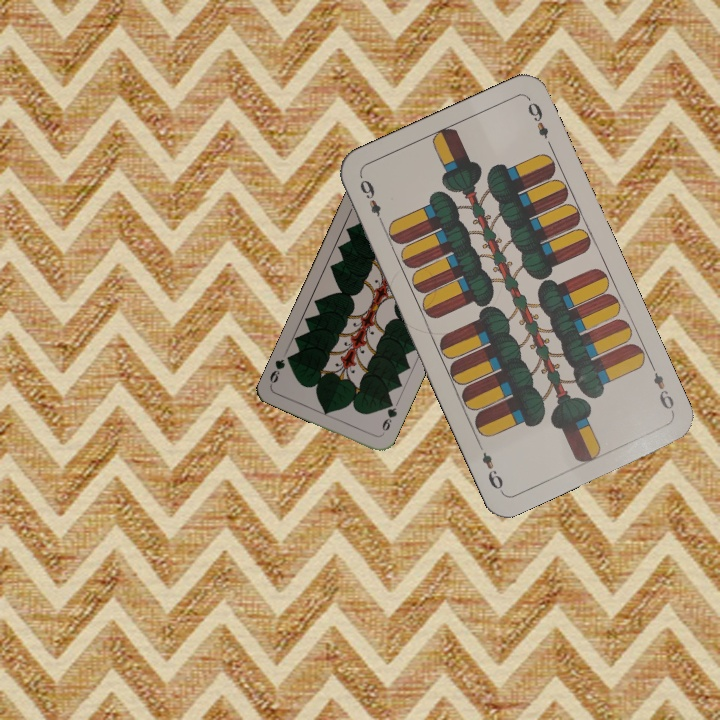E9: (355, 173, 388, 229), (646, 360, 677, 416)
G9: (377, 397, 400, 438)
